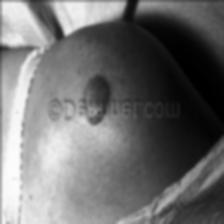Potentially Malignant Skin Tumors: (84, 80, 111, 122)
